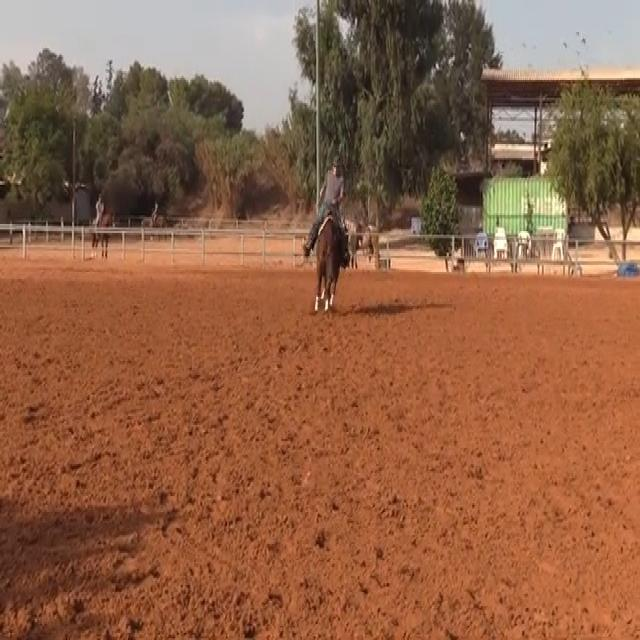horse: (311, 208, 350, 313)
